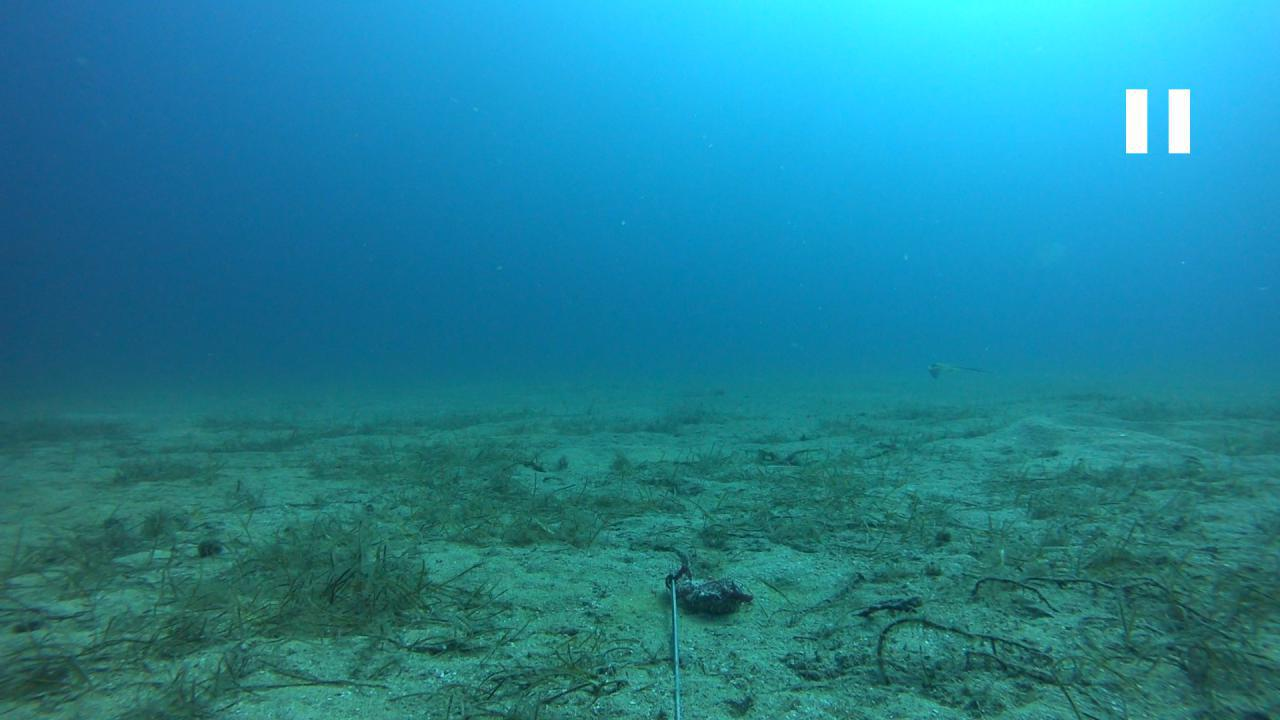dasyatis: (926, 361, 988, 379)
